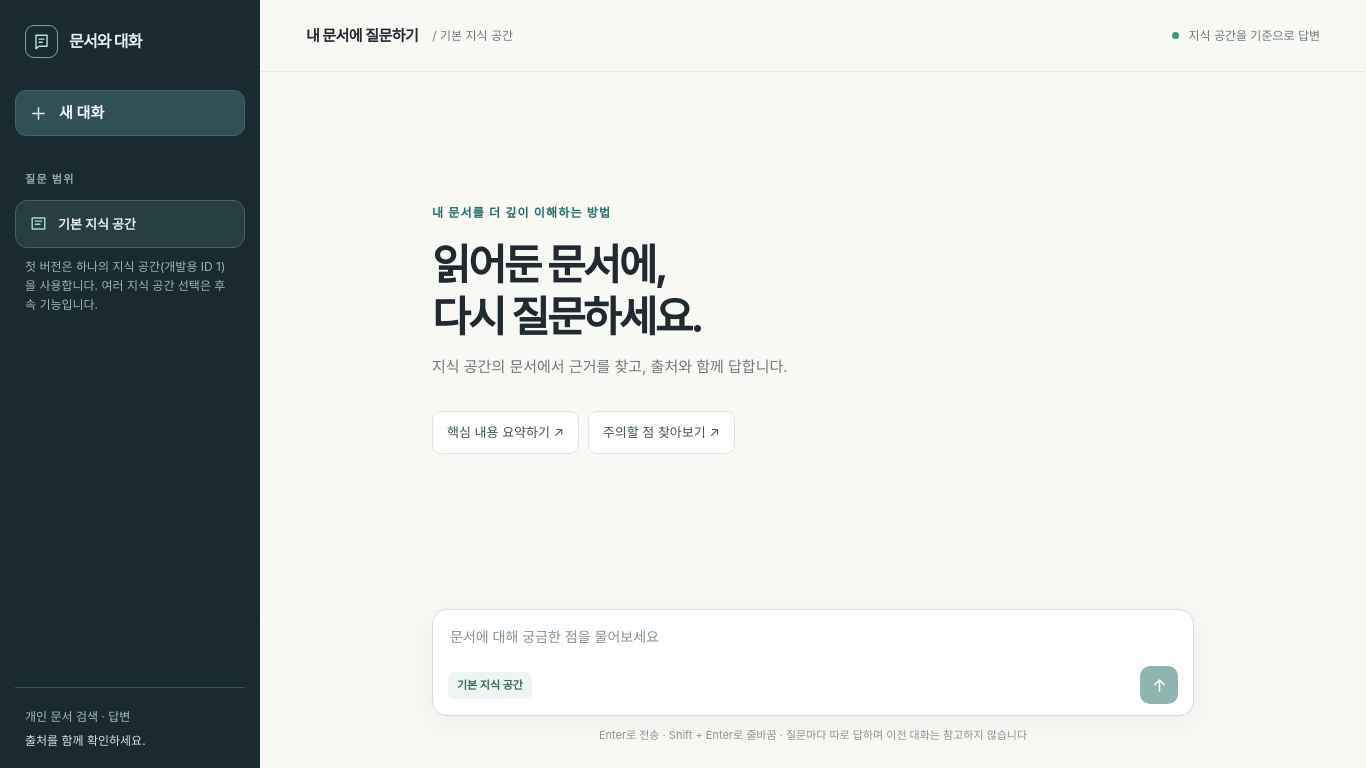
it: Enter는 질문을 보내고 입력을 비우며 로딩을 표시한다
The width and height of the screenshot is (1366, 768).
(page scrolled)
In the text box named "질문 입력": (813, 645) [448,624,1178,666], type "  첫 질문  "
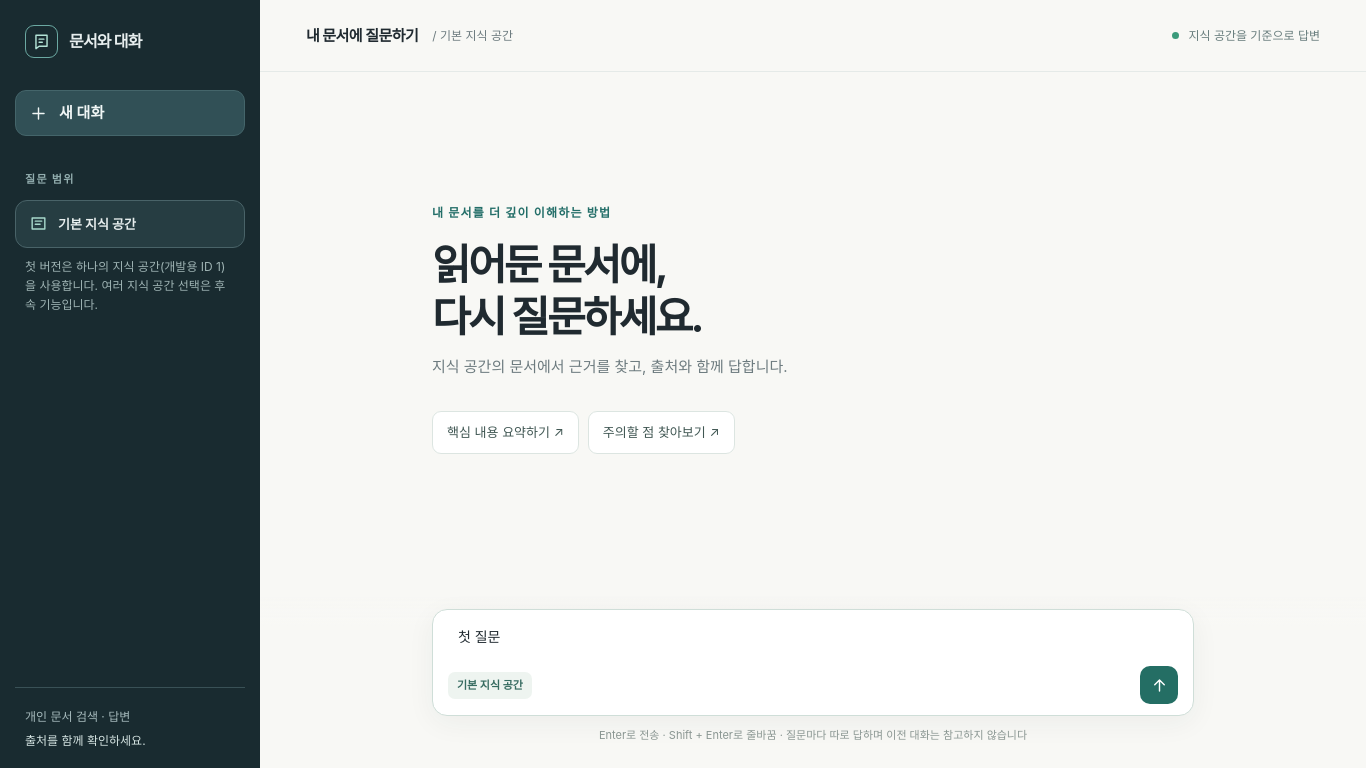
Press Enter in the text box named "질문 입력", box [448,624,1178,666]
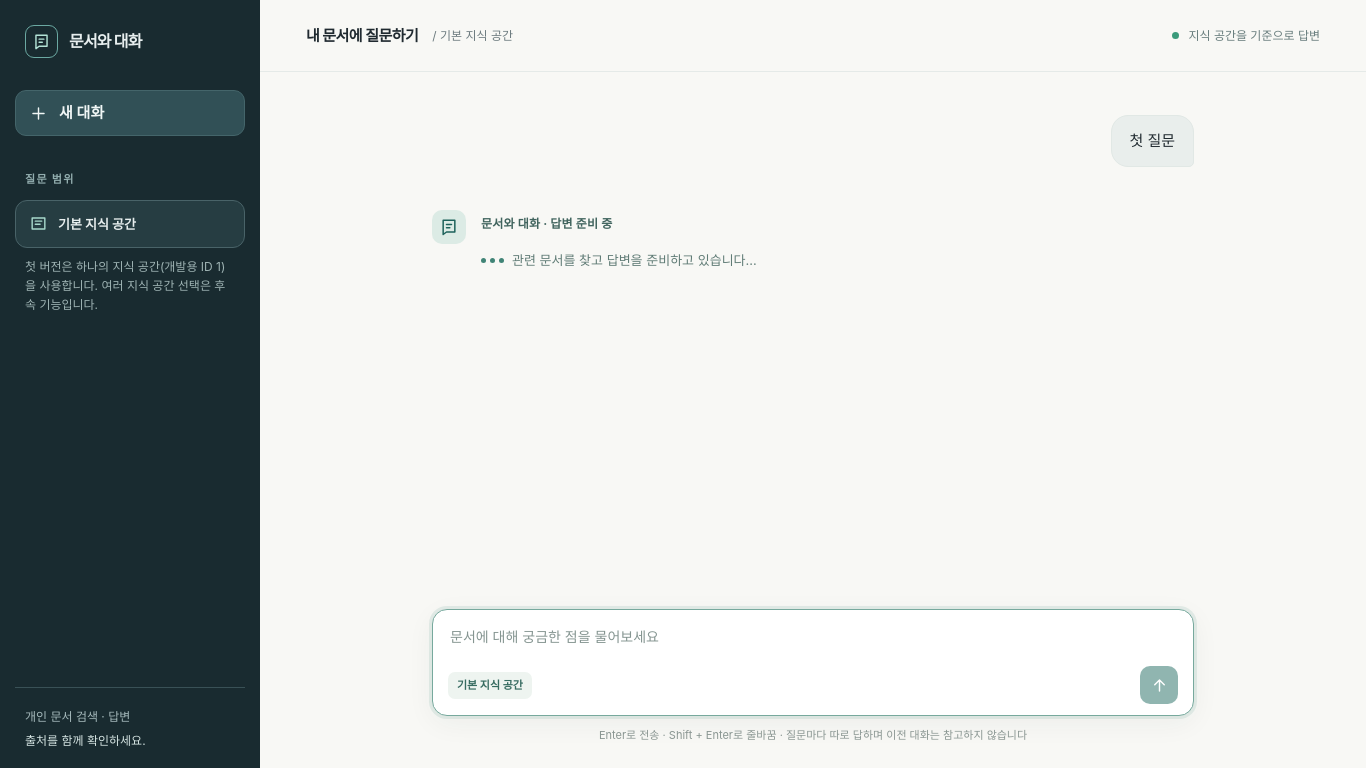
Expected: the text "첫 질문" is shown, [1111,115,1194,167]
Expected: the message shows "답변을 준비하고 있습니다", [512,252,757,268]
Expected: the text box named "질문 입력" is empty, [448,624,1178,666]
